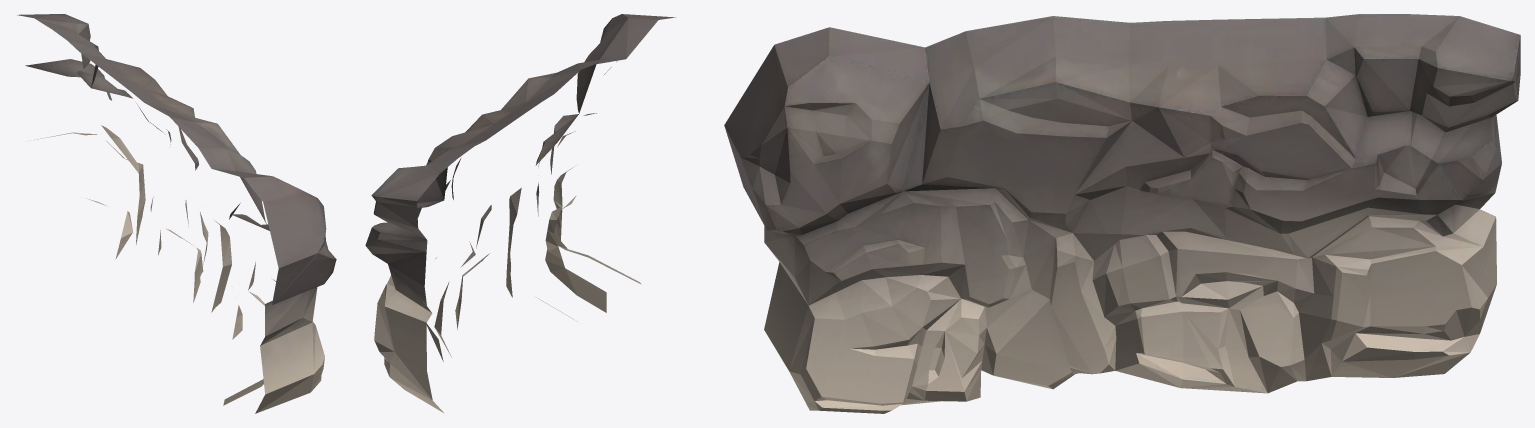
The picture shows the model from 3 angles, left to right: view 1: azimuth 30°, elevation 25°; view 2: azimuth 150°, elevation 25°; view 3: azimuth 270°, elevation 25°; orthographic projection. The views are drawn at different scales.
Visible parts, largest first — view 1: body0_model0_lod0_mesh0; view 2: body0_model0_lod0_mesh0; view 3: body0_model0_lod0_mesh0.
Boxes of the visible parts, bbox=[...] form: body0_model0_lod0_mesh0: bbox=[17, 14, 336, 413]; body0_model0_lod0_mesh0: bbox=[365, 14, 675, 413]; body0_model0_lod0_mesh0: bbox=[724, 14, 1520, 413].
Bounding box in the file's own units: 256 × 775 × 1476.
Materials: 1 (1 with a texture image).
